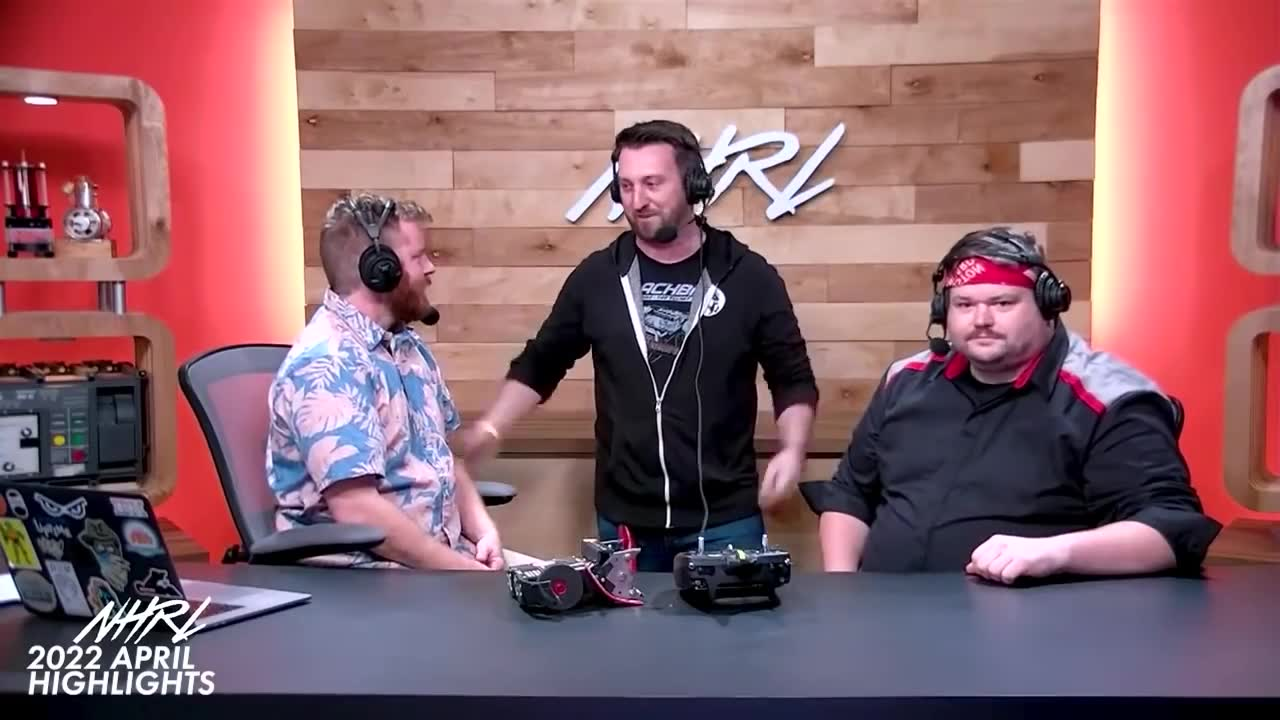combatbot: (505, 538, 644, 619)
